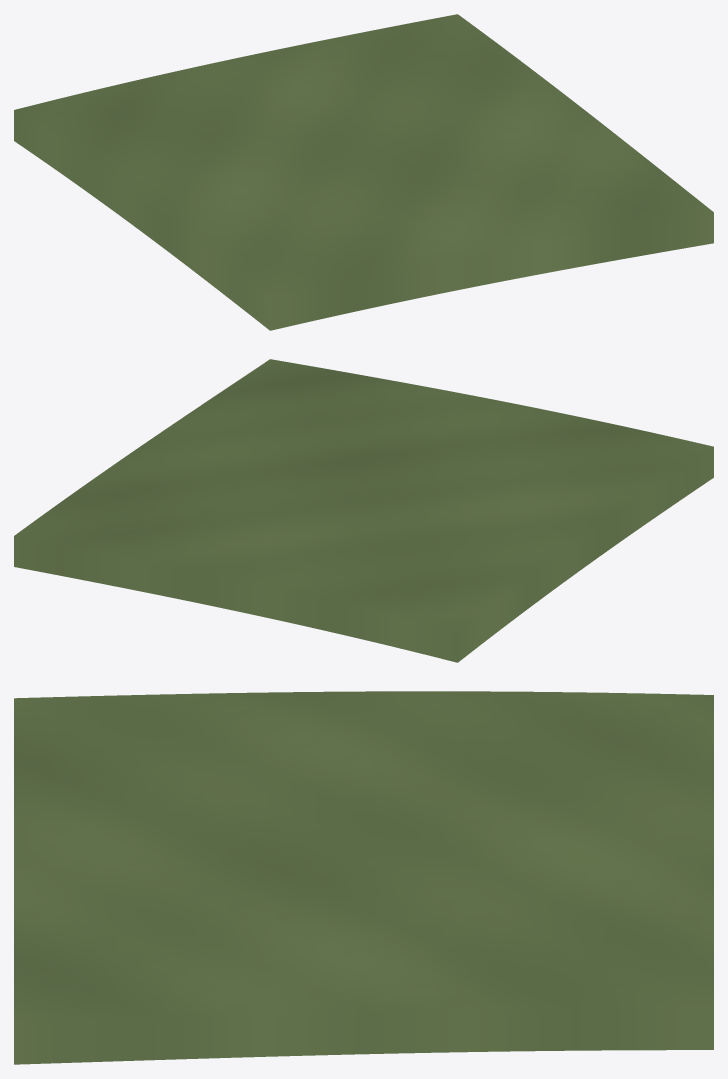
3 renders of one model, top to bottom at view 1: azimuth 30°, elevation 25°; view 2: azimuth 150°, elevation 25°; view 3: azimuth 270°, elevation 25°, orthographic. The views are drawn at different scales.
Parts seen in each view (by area): view 1: terrain; view 2: terrain; view 3: terrain.
Part boxes in pixels (x1,y1,x2,y2): terrain: (14,14,713,330); terrain: (14,359,713,662); terrain: (14,691,713,1064).
Bounding box in the file's own units: 30 × 3.67 × 30.
